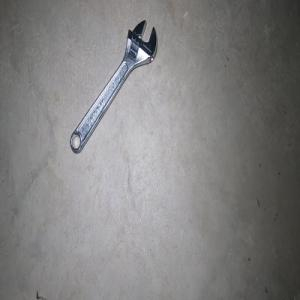Wrench: (70, 19, 156, 153)
